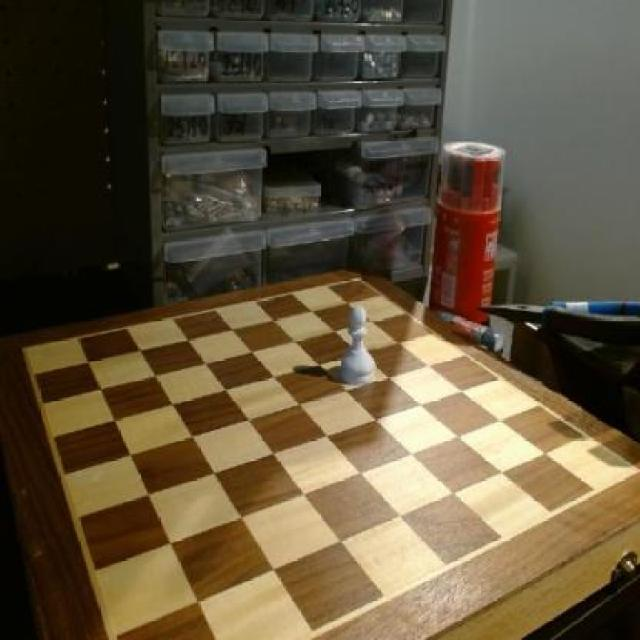white-knight: (338, 304, 377, 388)
